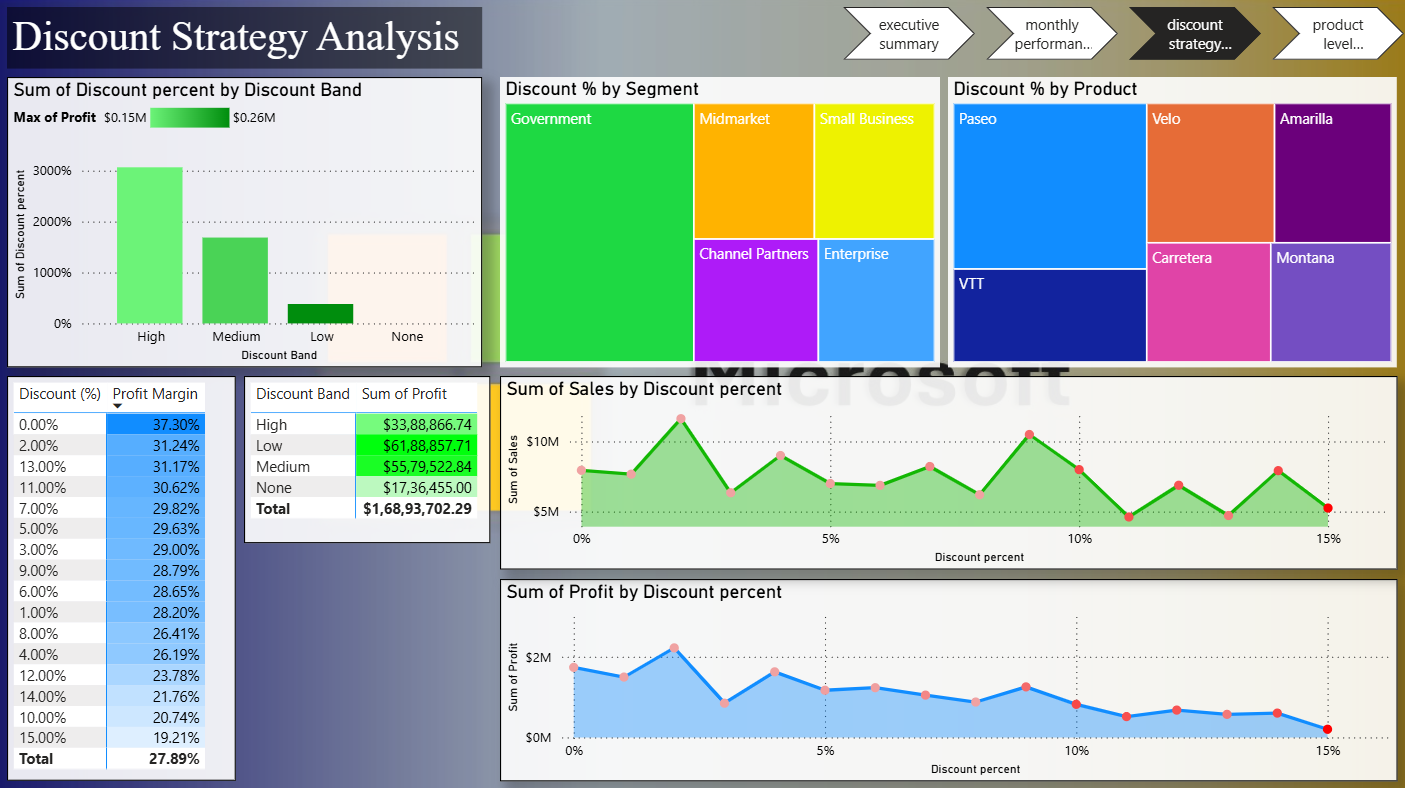

The dashboard page shown, as its layout file describes it:
{"tool":"powerbi","page":{"name":"discount strategy analysis ","canvas":[1280,720],"ordinal":2},"visuals":[{"type":"textbox","box":[8,8,432,56],"z":1000},{"type":"pageNavigator","box":[768,8,512,48],"z":2000},{"type":"columnChart","fields":{"Y":["Sum(Financial Sample.Discount percent)"],"Category":["Financial Sample. Discount Band "]},"box":[8,72,432,264],"z":4000},{"type":"pivotTable","fields":{"Rows":["Financial Sample.Discount percent"],"Values":["Avg(Financial Sample.Profit margin)"]},"box":[8,344,208,368],"z":5000},{"type":"treemap","title":"Discount % by  Product ","fields":{"Values":["Sum(Financial Sample.Discount percent)"],"Group":["Financial Sample. Product "]},"box":[864,72,408,264],"z":6000},{"type":"treemap","title":"Discount % by Segment","fields":{"Group":["Financial Sample.Segment"],"Values":["Sum(Financial Sample.Discount percent)"]},"box":[456,72,400,264],"z":7000},{"type":"pivotTable","fields":{"Values":["Sum(Financial Sample.Profit)"],"Rows":["Financial Sample. Discount Band "]},"box":[224,344,224,152],"z":8000},{"type":"lineChart","fields":{"Y":["Sum(Financial Sample.Profit)"],"Category":["Financial Sample.Discount percent"]},"box":[456,528,816,184],"z":9000},{"type":"lineChart","fields":{"Category":["Financial Sample.Discount percent"],"Y":["Sum(Financial Sample. Sales)"]},"box":[456,344,816,176],"z":10000}]}

Visuals, with their boxes in screenshot pixels (x1, y1, x2, y2), scaled from the page's 1280x720 canvas onto the 1405x788 screenshot:
textbox: [x1=9, y1=9, x2=483, y2=70]
pageNavigator: [x1=843, y1=9, x2=1404, y2=61]
columnChart - Sum(Financial Sample.Discount percent) x Financial Sample. Discount Band : [x1=9, y1=79, x2=483, y2=368]
pivotTable - Financial Sample.Discount percent x Avg(Financial Sample.Profit margin): [x1=9, y1=376, x2=237, y2=779]
"Discount % by  Product " treemap: [x1=948, y1=79, x2=1396, y2=368]
"Discount % by Segment" treemap: [x1=501, y1=79, x2=940, y2=368]
pivotTable - Sum(Financial Sample.Profit) x Financial Sample. Discount Band : [x1=246, y1=376, x2=492, y2=543]
lineChart - Sum(Financial Sample.Profit) x Financial Sample.Discount percent: [x1=501, y1=578, x2=1396, y2=779]
lineChart - Financial Sample.Discount percent x Sum(Financial Sample. Sales): [x1=501, y1=376, x2=1396, y2=569]
